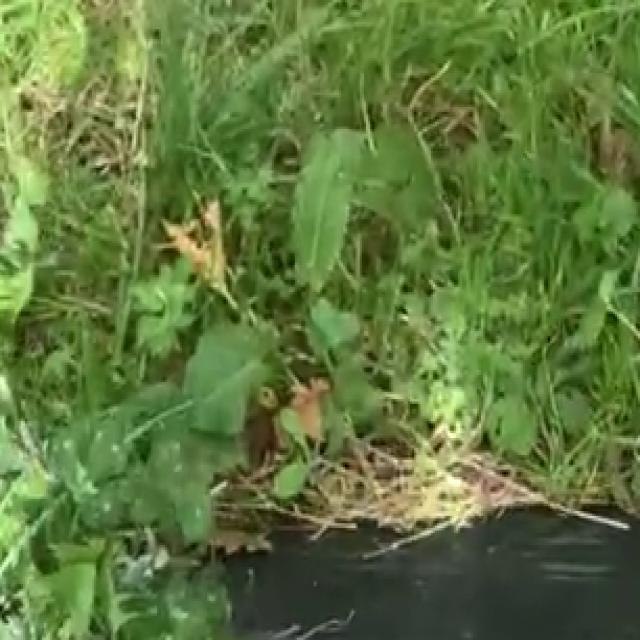organic waste: (19, 302, 286, 606), (268, 102, 520, 402)
